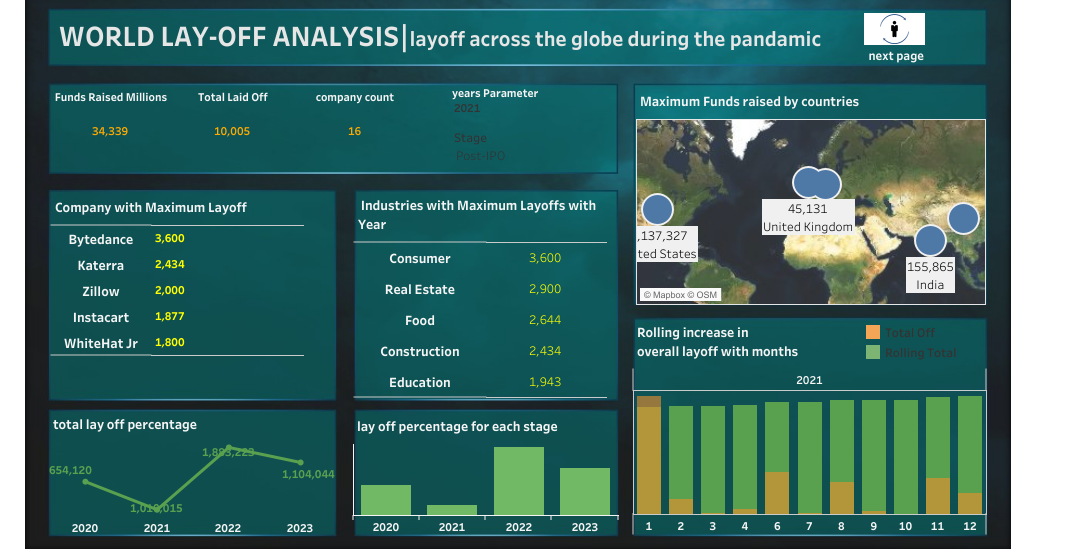

What the dashboard file says about the page in this screenshot:
{"tool":"tableau","page":{"name":"dashboard1","canvas":[1080,550],"ordinal":0},"visuals":[{"type":"dashboard-object","box":[864,12,61,34]},{"type":"text","box":[56,14,802,42]},{"type":"text","box":[866,45,64,19]},{"type":"worksheet","title":"kpy","mark":"Automatic","box":[50,84,417,90]},{"type":"parameter","param":"[Parameters].[years Parameter]","box":[452,84,160,42]},{"type":"worksheet","title":"Sheet 2","mark":"Automatic","box":[636,85,350,220]},{"type":"filter","title":"lay off percentage for each stage ","param":"[federated.1ryh55y0i9xtkl17nzmnn0ai57m3].[none:stage:nk]","box":[454,127,160,44]},{"type":"worksheet","title":"Sheet 3","mark":"Automatic","rows":["industry"],"box":[354,189,264,212]},{"type":"worksheet","title":"Sheet 1","mark":"Automatic","rows":["Company"],"box":[51,191,284,209]},{"type":"worksheet","title":"Sheet 4","mark":"Bar","rows":["rolling_total","total_off"],"box":[633,316,354,219]},{"type":"legend","title":"Sheet 4","param":"[federated.10o34b007a7qax18npn1x1mghcr8].[:Measure Names]","box":[863,322,110,56]},{"type":"worksheet","title":"total lay off percentage","mark":"Line","rows":["total_off"],"box":[49,408,287,128]},{"type":"worksheet","title":"lay off percentage for each stage ","mark":"Automatic","rows":["percentage_laid_off"],"cols":["date - Split 1"],"box":[353,410,265,125]}]}

Visuals, with their boxes in screenshot pixels (x1, y1, x2, y2), scaled from the page's 1080x550 canvas onto the 1079x549 screenshot:
dashboard-object: x1=863 y1=12 x2=924 y2=46
text: x1=56 y1=14 x2=857 y2=56
text: x1=865 y1=45 x2=929 y2=64
"kpy" worksheet: x1=50 y1=84 x2=467 y2=174
parameter: x1=452 y1=84 x2=611 y2=126
"Sheet 2" worksheet: x1=635 y1=85 x2=985 y2=304
"lay off percentage for each stage " filter: x1=454 y1=127 x2=613 y2=171
"Sheet 3" worksheet: x1=354 y1=189 x2=617 y2=400
"Sheet 1" worksheet: x1=51 y1=191 x2=335 y2=399
"Sheet 4" worksheet (Bar marks): x1=632 y1=315 x2=986 y2=534
"Sheet 4" legend: x1=862 y1=321 x2=972 y2=377
"total lay off percentage" worksheet (Line marks): x1=49 y1=407 x2=336 y2=535
"lay off percentage for each stage " worksheet: x1=353 y1=409 x2=617 y2=534
